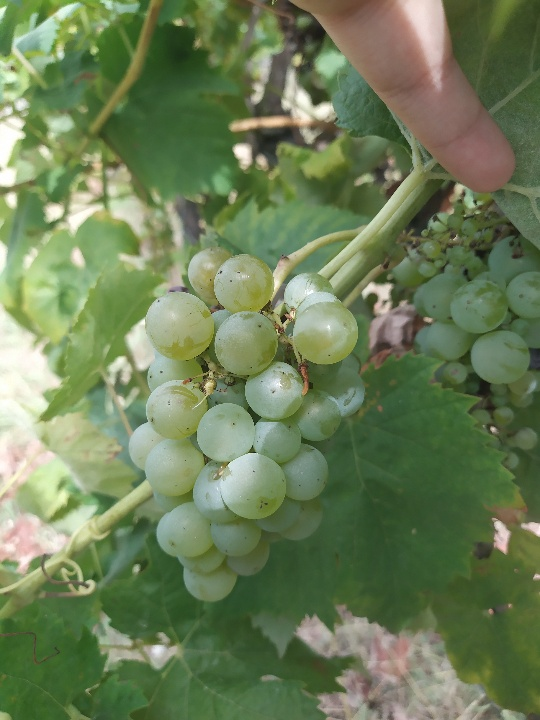grape: (126, 244, 370, 605)
